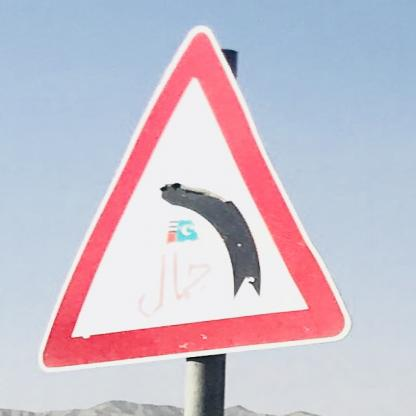Left bend: (29, 23, 354, 381)
